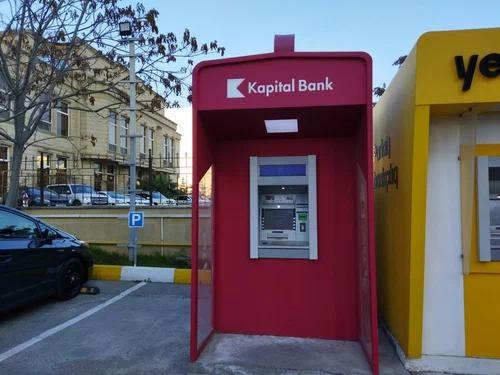Kapital Bank: (224, 78, 247, 99)
